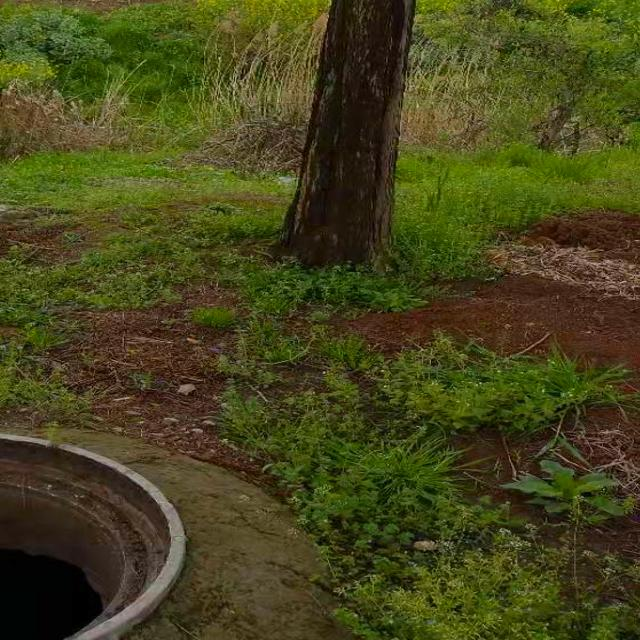lose: (0, 427, 230, 640)
